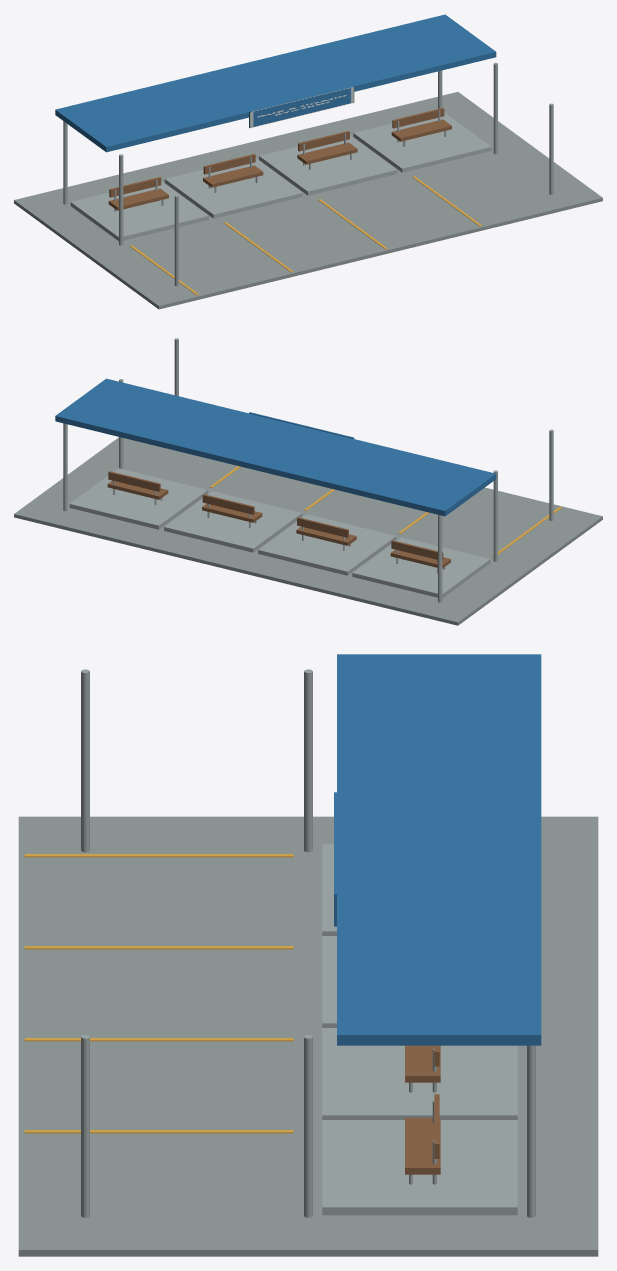
File: scendance-plan-bus-coach-station.glb
The picture shows the model from 3 angles, top to bottom: view 1: azimuth 30°, elevation 25°; view 2: azimuth 150°, elevation 25°; view 3: azimuth 270°, elevation 25°; orthographic projection. The views are drawn at different scales.
Size of the model in its own units: 13.8 by 2.92 by 7.8.
Materials: 6 (1 with a texture image).
